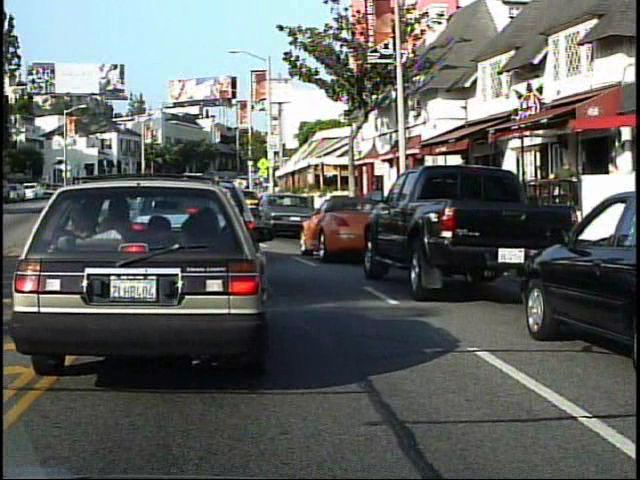person: (553, 154, 582, 226)
